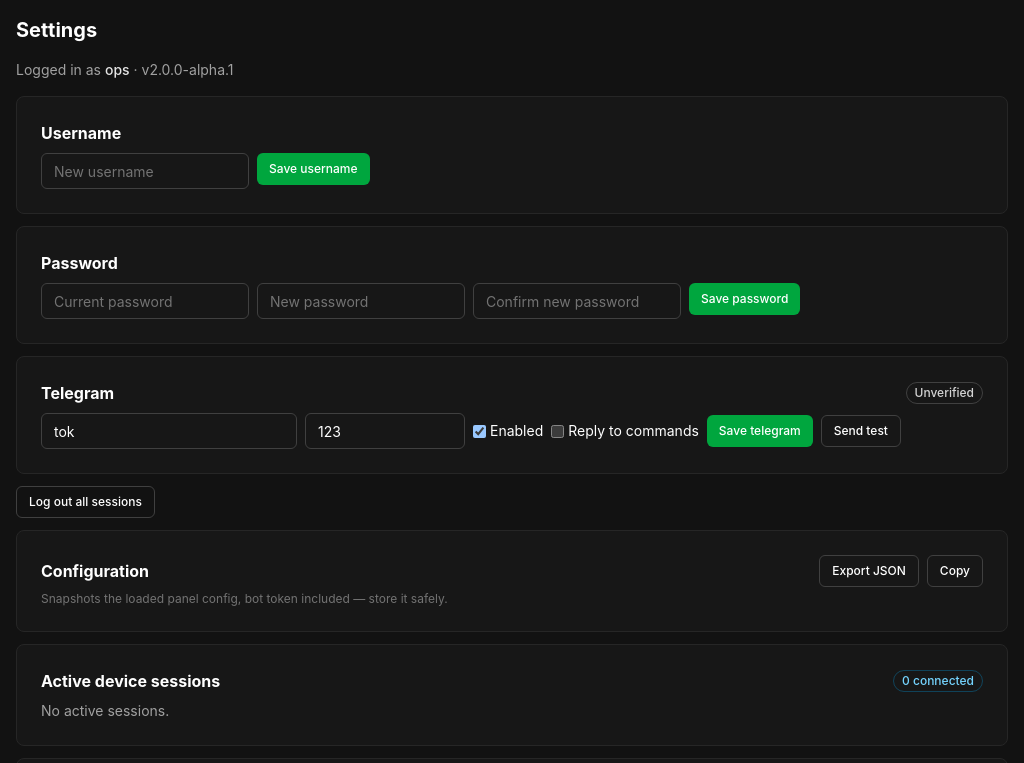
web settings page › saves telegram and tests delivery
Click the button "Save telegram": (760, 431) left=707, top=415, right=813, bottom=447
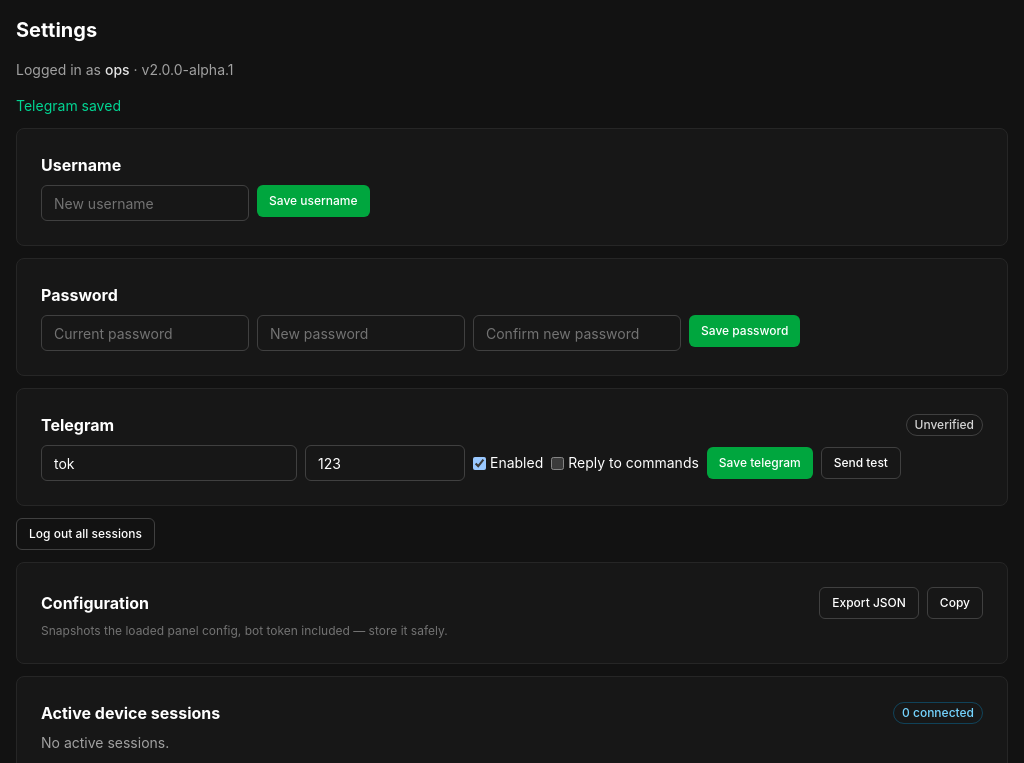
Click the button "Send test": (861, 463) left=821, top=447, right=901, bottom=479
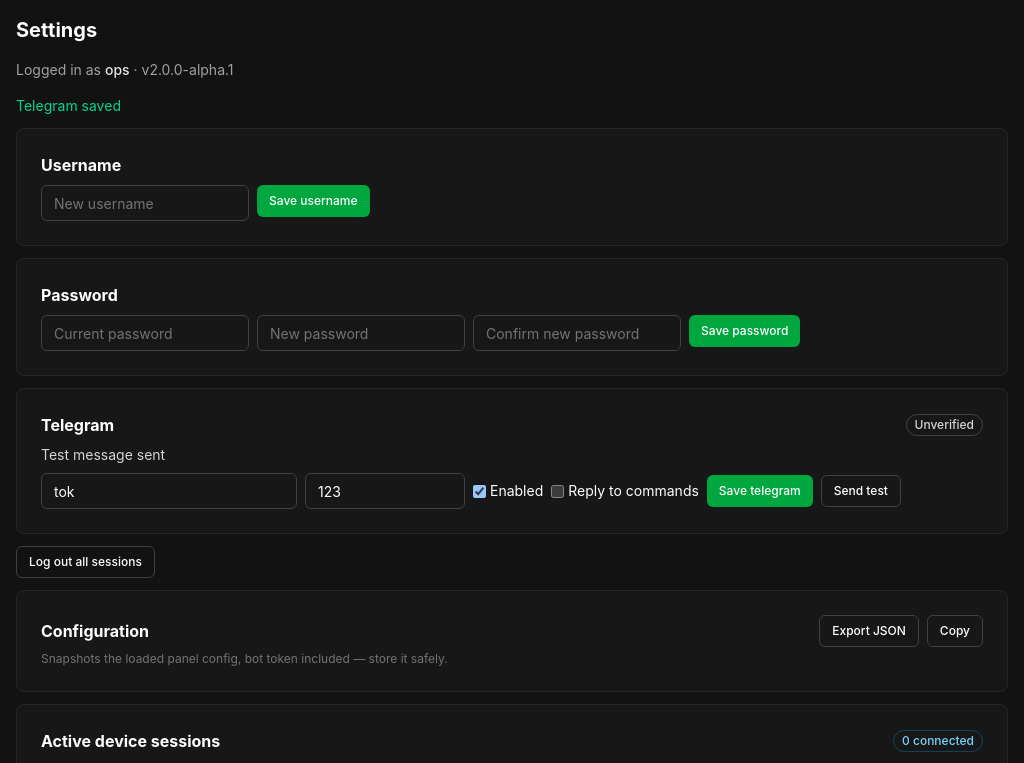
Expected: the text "Test message sent" is shown, left=41, top=446, right=165, bottom=463
